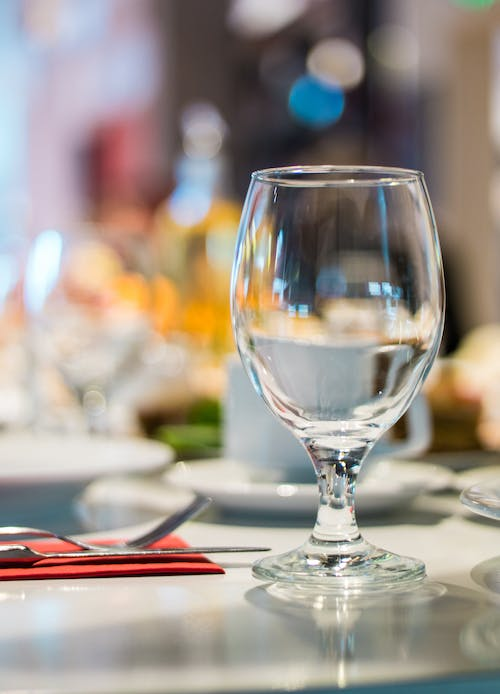knife: (0, 542, 275, 571)
